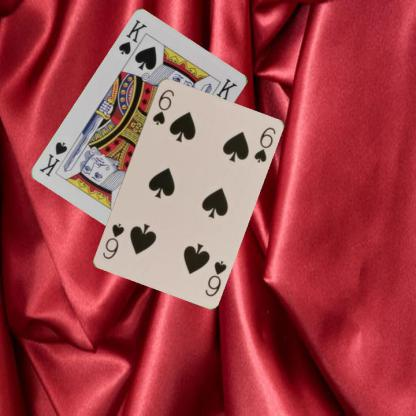6s: (150, 86, 176, 126), (202, 258, 228, 298)
Ks: (116, 17, 148, 57)
